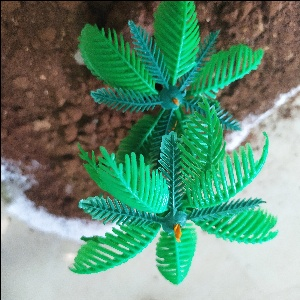plant: (50, 128, 290, 292), (68, 4, 245, 159)
